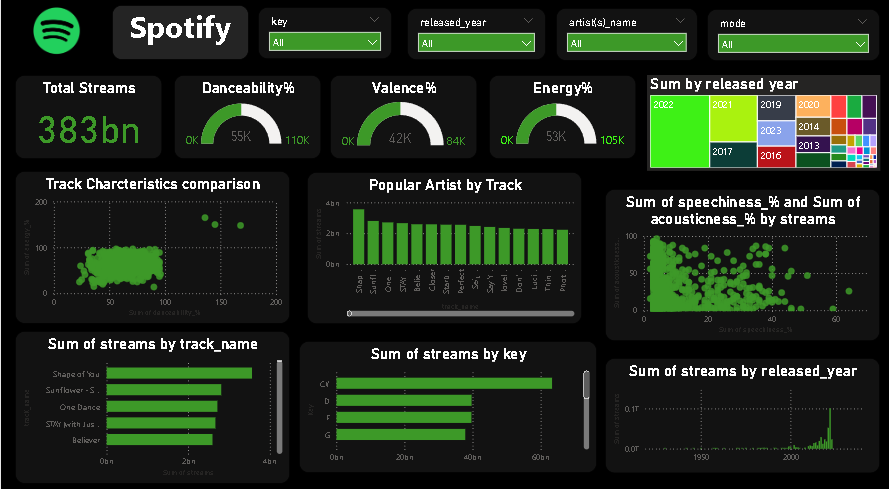

The page's visual inventory and layout, read from the dashboard file:
{"tool":"powerbi","page":{"name":"Page 1","canvas":[1280,720],"ordinal":0},"visuals":[{"type":"image","box":[0,13,159.8,82.1],"z":0},{"type":"textbox","box":[159.6,16.8,196.5,79],"z":1000},{"type":"slicer","fields":{"Values":["spotify-2023.key"]},"box":[370.1,20.2,193,74.9],"z":2000},{"type":"slicer","fields":{"Values":["spotify-2023.released_year"]},"box":[584.6,21.6,200.2,74.9],"z":3000},{"type":"slicer","fields":{"Values":["spotify-2023.artist(s)_name"]},"box":[799.2,21.6,204.5,76.3],"z":4000},{"type":"slicer","fields":{"Values":["spotify-2023.mode"]},"box":[1016.6,23,249.1,74.9],"z":5000},{"type":"card","title":"Total Streams","fields":{"Values":["Sum(spotify-2023.streams)"]},"box":[20.2,118.1,211.7,121],"z":6000},{"type":"gauge","fields":{"Y":["Sum(spotify-2023.danceability_%)"]},"box":[249.1,118.1,211.7,121],"z":7000},{"type":"gauge","fields":{"Y":["Sum(spotify-2023.valence_%)"]},"box":[473.8,118.1,211.7,121],"z":8000},{"type":"gauge","fields":{"Y":["Sum(spotify-2023.energy_%)"]},"box":[702.7,118.1,211.7,121],"z":9000},{"type":"treemap","title":"Sum by released year","fields":{"Group":["spotify-2023.released_year"],"Values":["Sum(spotify-2023.streams)"]},"box":[930.2,118.1,335.5,138.2],"z":10000},{"type":"scatterChart","title":"Track Charcteristics comparison","fields":{"Category":["spotify-2023.streams"],"X":["Sum(spotify-2023.danceability_%)"],"Y":["Sum(spotify-2023.energy_%)"]},"box":[20.2,256.3,396,220.3],"z":11000},{"type":"columnChart","title":"Popular Artist by Track","fields":{"Category":["spotify-2023.track_name"],"Y":["Sum(spotify-2023.streams)"]},"box":[440.6,257.8,396,218.9],"z":12000},{"type":"clusteredBarChart","fields":{"Category":["spotify-2023.track_name"],"Y":["Sum(spotify-2023.streams)"]},"box":[20,486,396,220],"z":12001},{"type":"scatterChart","fields":{"Category":["spotify-2023.streams"],"X":["Sum(spotify-2023.speechiness_%)"],"Y":["Sum(spotify-2023.acousticness_%)"]},"box":[869.8,282.2,396,218.9],"z":12002},{"type":"clusteredColumnChart","fields":{"Category":["spotify-2023.released_year"],"Y":["Sum(spotify-2023.streams)"]},"box":[869.8,525.6,396,165.6],"z":12003},{"type":"clusteredBarChart","fields":{"Category":["spotify-2023.key"],"Y":["Sum(spotify-2023.streams)"]},"box":[429.1,501.1,429.1,190.1],"z":12004}]}

Visuals, with their boxes in screenshot pixels (x1, y1, x2, y2), scaled from the page's 1280x720 canvas onto the 889x489 screenshot:
image: [0, 9, 111, 65]
textbox: [111, 11, 247, 65]
slicer - spotify-2023.key: [257, 14, 391, 65]
slicer - spotify-2023.released_year: [406, 15, 545, 66]
slicer - spotify-2023.artist(s)_name: [555, 15, 697, 66]
slicer - spotify-2023.mode: [706, 16, 879, 66]
"Total Streams" card: [14, 80, 161, 162]
gauge - Sum(spotify-2023.danceability_%): [173, 80, 320, 162]
gauge - Sum(spotify-2023.valence_%): [329, 80, 476, 162]
gauge - Sum(spotify-2023.energy_%): [488, 80, 635, 162]
"Sum by released year" treemap: [646, 80, 879, 174]
"Track Charcteristics comparison" scatterChart: [14, 174, 289, 324]
"Popular Artist by Track" columnChart: [306, 175, 581, 324]
clusteredBarChart - spotify-2023.track_name x Sum(spotify-2023.streams): [14, 330, 289, 479]
scatterChart - spotify-2023.streams x Sum(spotify-2023.speechiness_%): [604, 192, 879, 340]
clusteredColumnChart - spotify-2023.released_year x Sum(spotify-2023.streams): [604, 357, 879, 469]
clusteredBarChart - spotify-2023.key x Sum(spotify-2023.streams): [298, 340, 596, 469]
